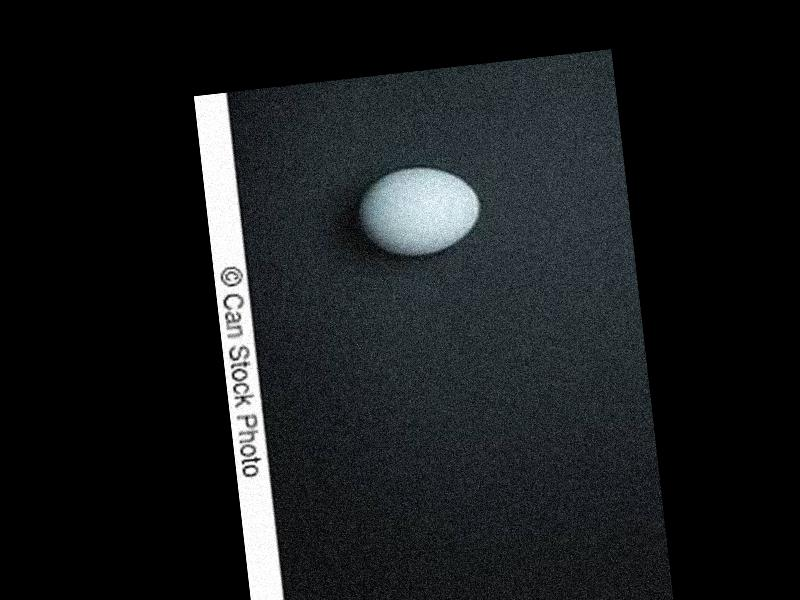Eggs: (354, 158, 485, 260)
